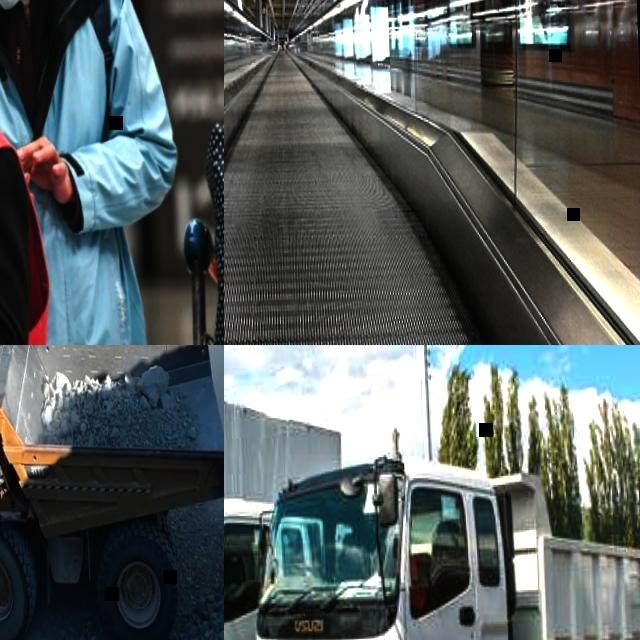NO-Safety Vest: (0, 0, 141, 345)
Person: (0, 0, 190, 345), (0, 0, 55, 345)
machinery: (243, 431, 640, 640), (0, 345, 224, 640)
